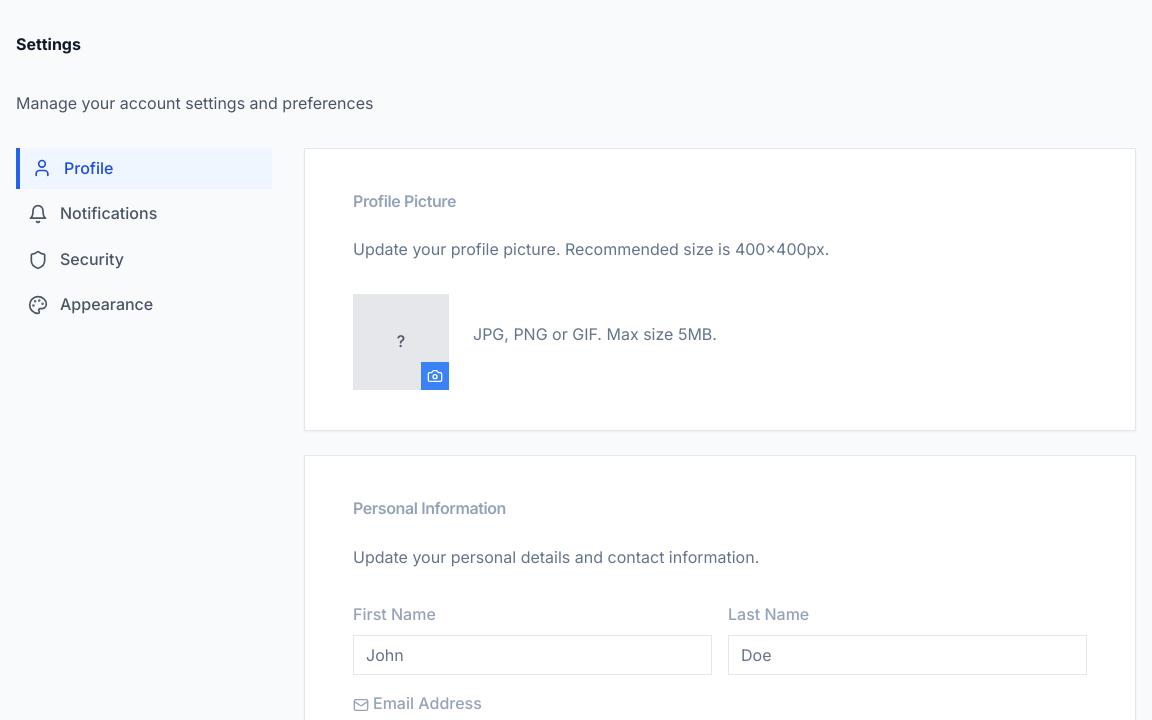
Test: Settings Page › should load and display notification preferences
This screenshot has width=1152, height=720.
# Switch to Notifications tab
Click the button "Notifications" at (144, 214), box [16,193,272,235]
(page scrolled)
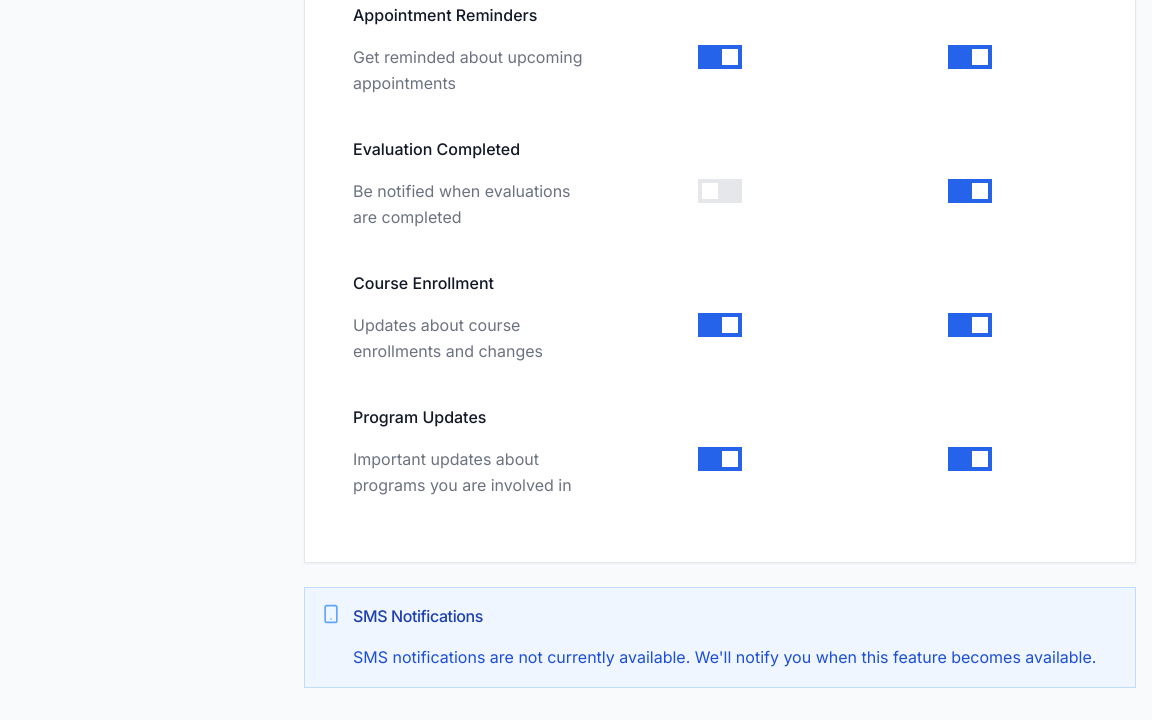
Now the text "Appointment Reminders" is shown, box [353,5,537,25]
Now the text "Evaluation Completed" is shown, box [353,139,520,159]
Now the text "Course Enrollment" is shown, box [353,273,494,293]
